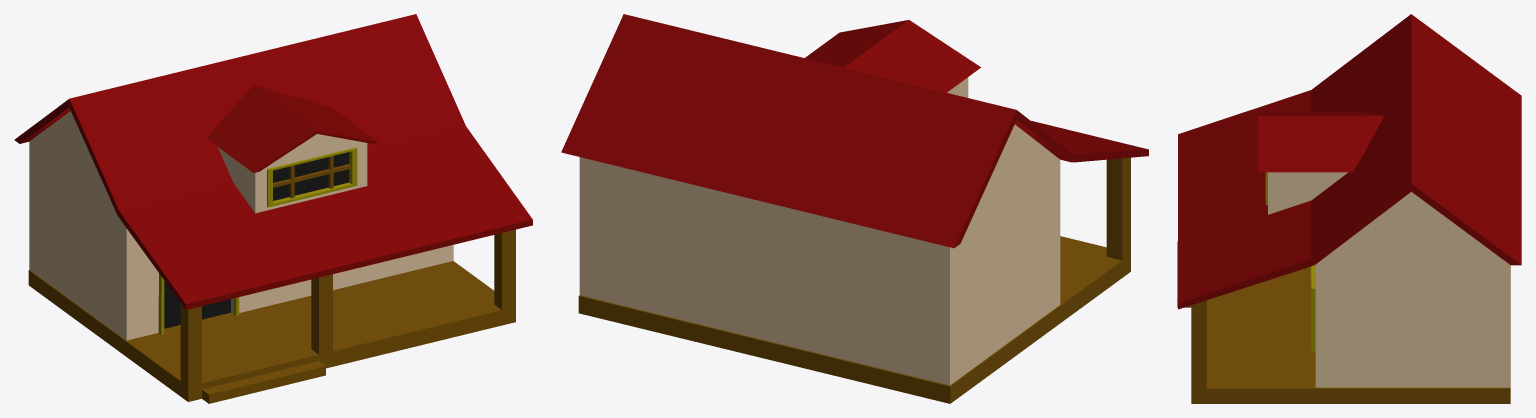
File: house_1.fbx
3 views of the same model, side by side, from view 1: azimuth 30°, elevation 25°; view 2: azimuth 150°, elevation 25°; view 3: azimuth 270°, elevation 25° (orthographic). The views are drawn at different scales.
Visible parts, largest first — view 1: House_will1_pCube161; view 2: House_will1_pCube161; view 3: House_will1_pCube161.
Boxes of the visible parts, x1,y1,x2,y2 form: House_will1_pCube161: (14, 14, 532, 403); House_will1_pCube161: (561, 14, 1148, 403); House_will1_pCube161: (1177, 14, 1521, 403).
Size of the model in its own units: 21.7 by 13.47 by 18.65.
